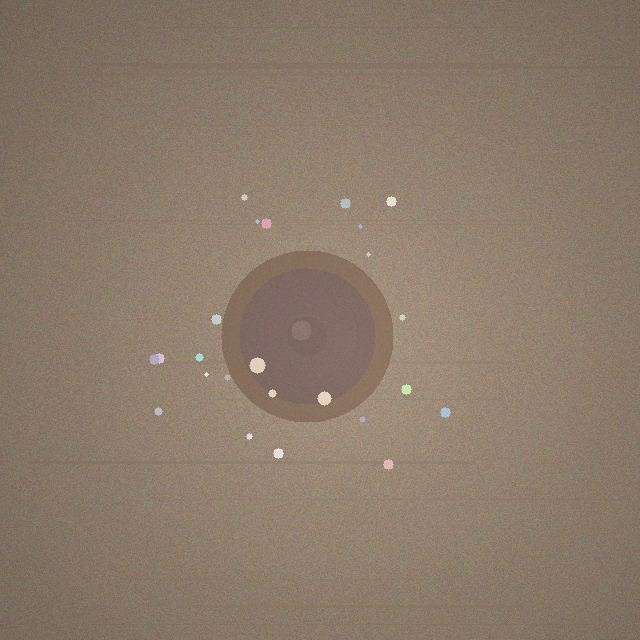overburn: (221, 250, 393, 422)
